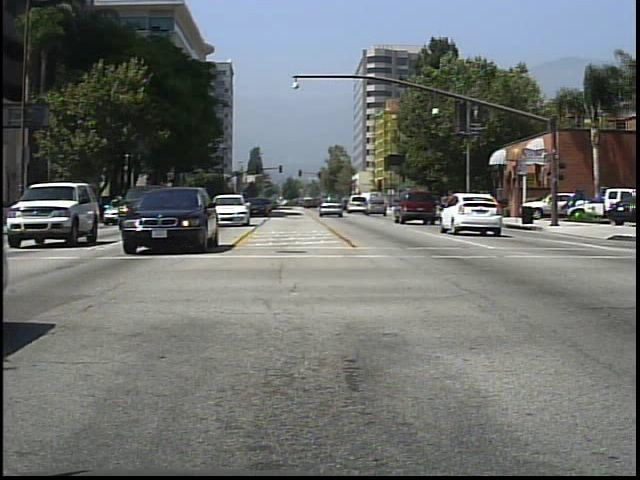person: (437, 191, 456, 224), (473, 189, 491, 218)
